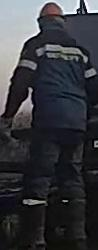helmet: (36, 1, 67, 27)
vest: (10, 30, 98, 135)
